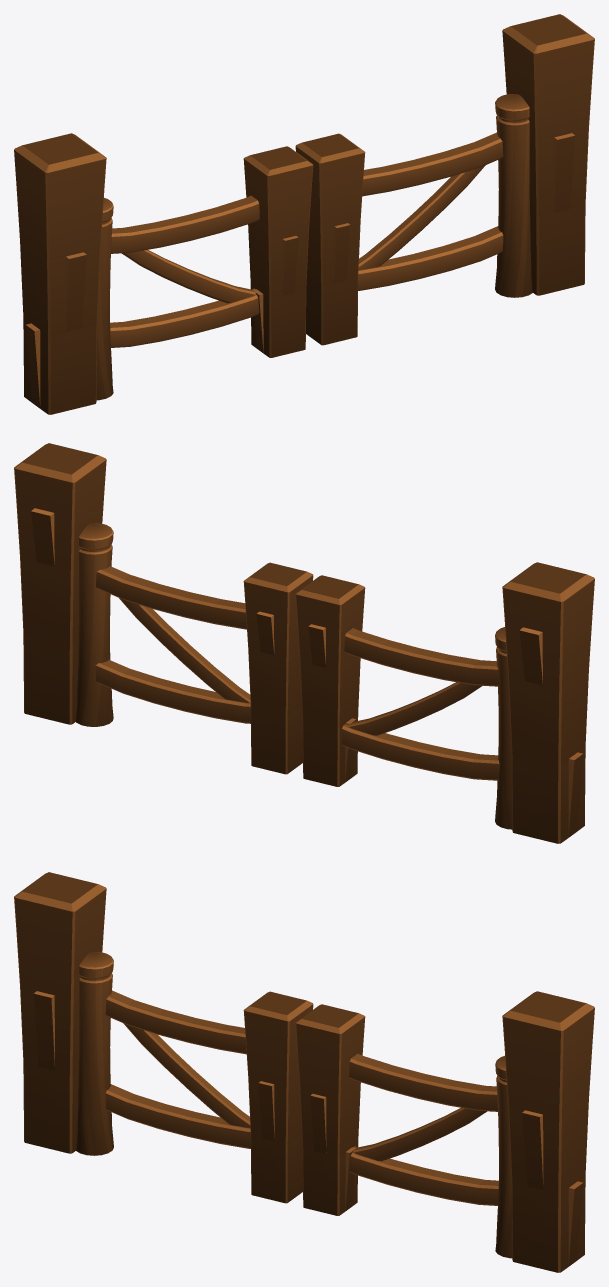
File: Door-3-1.fbx
3 renders of one model, top to bottom at view 1: azimuth 30°, elevation 25°; view 2: azimuth 150°, elevation 25°; view 3: azimuth 330°, elevation 25°, orthographic.
Visible parts, largest first — view 1: Door-3-1; view 2: Door-3-1; view 3: Door-3-1.
Boxes of the visible parts, bbox=[...] form: Door-3-1: bbox=[14, 14, 594, 414]; Door-3-1: bbox=[14, 443, 594, 843]; Door-3-1: bbox=[14, 872, 594, 1272].
Bounding box in the file's own units: 452 × 198 × 53.27.
